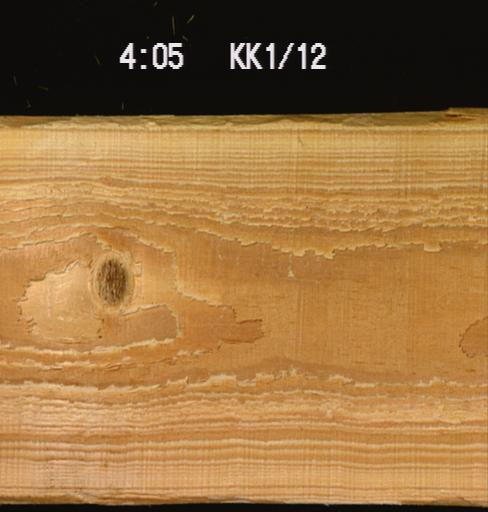sound_knot: (94, 256, 129, 306)
wave: (0, 106, 487, 127), (0, 493, 286, 506), (397, 495, 487, 507)
